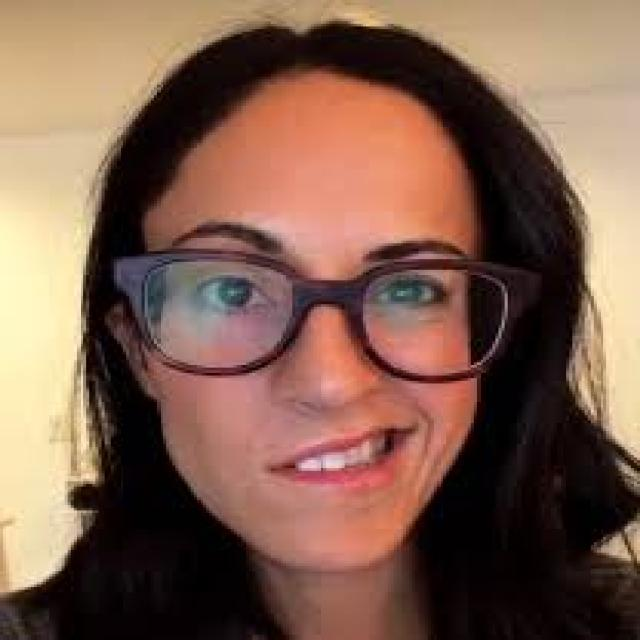stroke_face: (132, 62, 508, 580)
